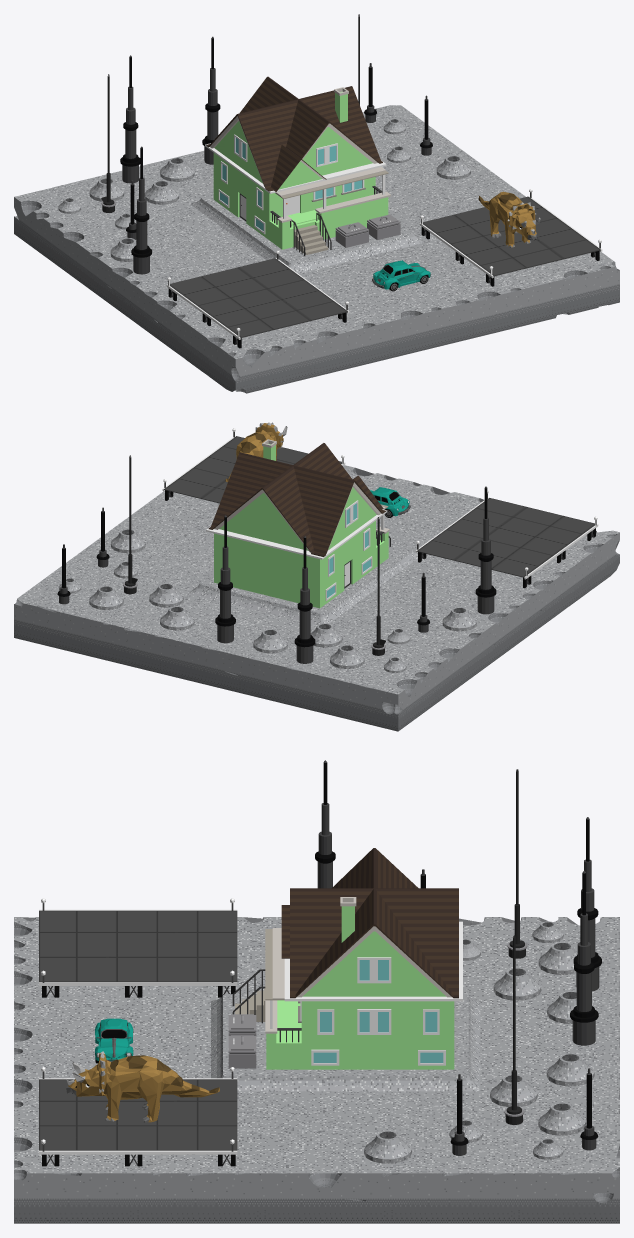
The picture shows the model from 3 angles, top to bottom: view 1: azimuth 30°, elevation 25°; view 2: azimuth 150°, elevation 25°; view 3: azimuth 270°, elevation 25°; orthographic projection. The views are drawn at different scales.
Parts seen in each view (by area): view 1: Cube.027, Cube.274, Cube.025, Cube.026, Cube.028, ANIMAL_Triceratops, Cylinder.021, Cylinder.020, VEHICLES_VOLKSWAGEN, Cylinder.017, Cube.029, Cube.030 (+5 smaller); view 2: Cube.027, Cube.274, Cube.025, Cube.028, Cube.026, Cylinder.021, Cylinder.020, Cylinder.017, ANIMAL_Triceratops, VEHICLES_VOLKSWAGEN, Cylinder.029, Cylinder.030 (+8 smaller); view 3: Cube.027, Cube.274, Cube.025, Cube.026, Cube.028, ANIMAL_Triceratops, Cylinder.017, VEHICLES_VOLKSWAGEN, Cylinder.021, Cylinder.020, Cylinder.033, Cylinder.031 (+11 smaller).
Part boxes in pixels (bbox=[...]): Cube.027: bbox=[14, 105, 619, 393]; Cube.274: bbox=[205, 76, 390, 256]; Cube.025: bbox=[166, 250, 349, 348]; Cube.026: bbox=[419, 189, 602, 286]; Cube.028: bbox=[191, 194, 423, 273]; ANIMAL_Triceratops: bbox=[478, 191, 540, 247]; Cylinder.021: bbox=[131, 146, 151, 274]; Cylinder.020: bbox=[120, 55, 140, 183]; VEHICLES_VOLKSWAGEN: bbox=[372, 260, 430, 291]; Cylinder.017: bbox=[202, 36, 220, 164]; Cube.029: bbox=[335, 222, 368, 247]; Cube.030: bbox=[367, 214, 400, 240]; Cube.027: bbox=[14, 465, 619, 731]; Cube.274: bbox=[206, 439, 390, 608]; Cube.025: bbox=[415, 490, 598, 588]; Cube.028: bbox=[189, 543, 417, 624]; Cube.026: bbox=[162, 428, 345, 503]; Cylinder.021: bbox=[475, 486, 496, 614]; Cylinder.020: bbox=[294, 536, 315, 663]; Cylinder.017: bbox=[215, 515, 235, 643]; ANIMAL_Triceratops: bbox=[225, 422, 287, 482]; VEHICLES_VOLKSWAGEN: bbox=[370, 487, 410, 517]; Cylinder.029: bbox=[160, 606, 194, 630]; Cylinder.030: bbox=[149, 583, 183, 607]; Cube.027: bbox=[14, 917, 619, 1223]; Cube.274: bbox=[232, 848, 462, 1069]; Cube.025: bbox=[39, 898, 237, 997]; Cube.026: bbox=[39, 1067, 237, 1166]; Cube.028: bbox=[211, 994, 480, 1091]; ANIMAL_Triceratops: bbox=[65, 1051, 219, 1122]; Cylinder.017: bbox=[570, 870, 598, 1045]; VEHICLES_VOLKSWAGEN: bbox=[95, 1018, 133, 1063]; Cylinder.021: bbox=[315, 760, 335, 888]; Cylinder.020: bbox=[573, 817, 601, 991]; Cylinder.033: bbox=[364, 1130, 411, 1163]; Cylinder.031: bbox=[538, 1102, 585, 1135].
Bounding box in the file's own units: 4000 × 1807 × 4000.
33 materials, 4 textured.
